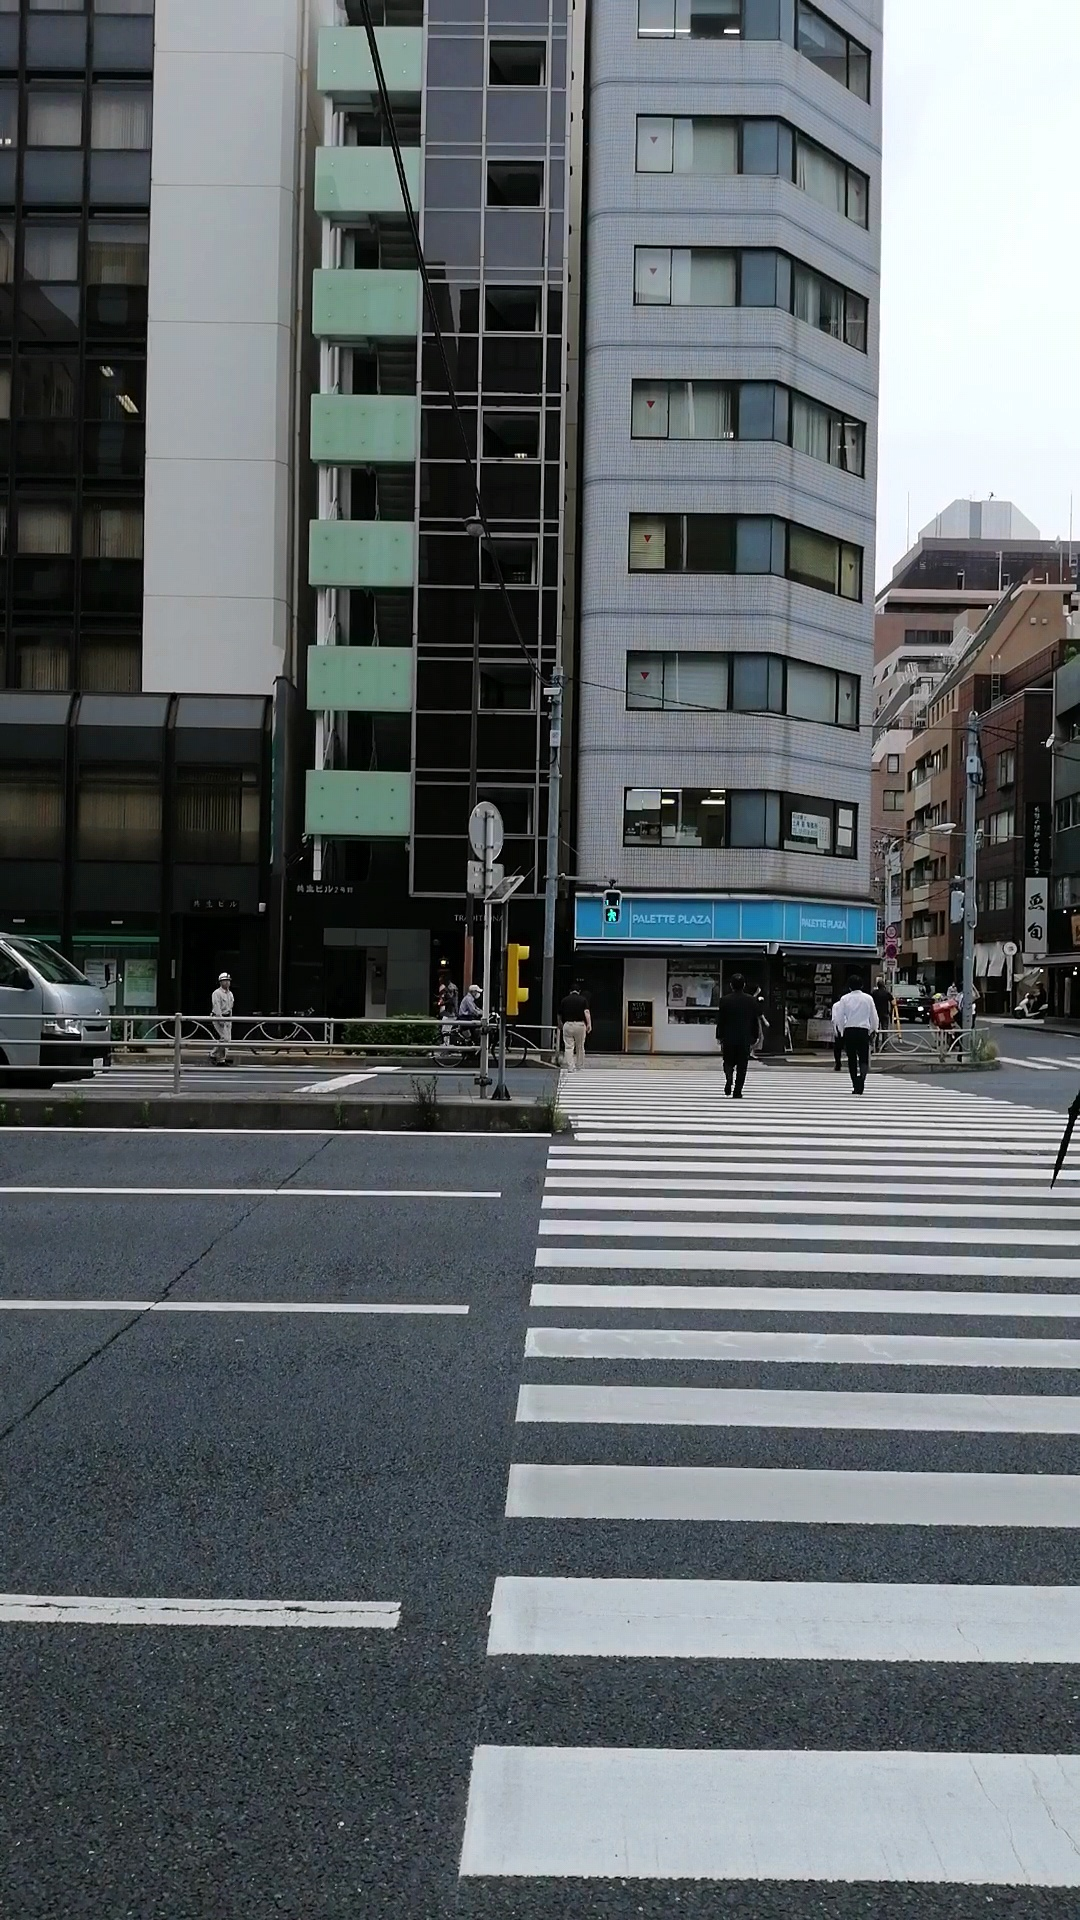green: (603, 887, 622, 924)
